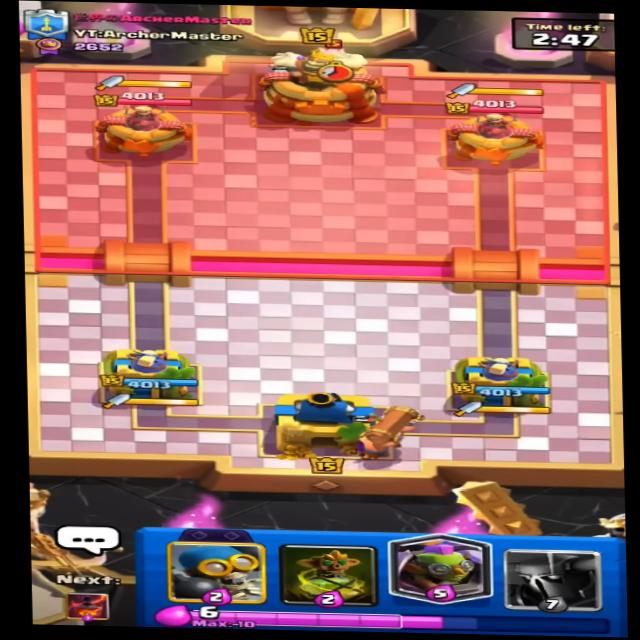electro-spirit: (316, 37, 361, 61)
